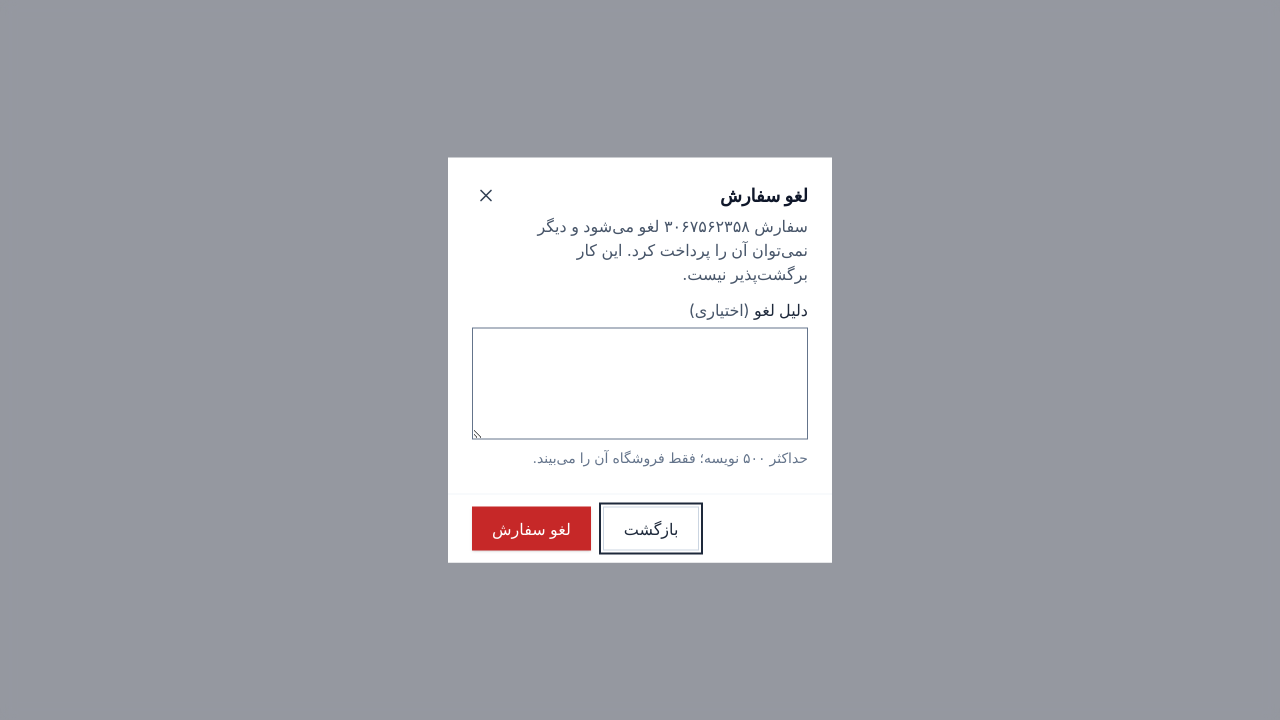
Scenario: refused › 404 not_found: said, the order read again, only «بازگشت» left
Click the button "لغو سفارش" at (531, 528), box [472,506,591,550]
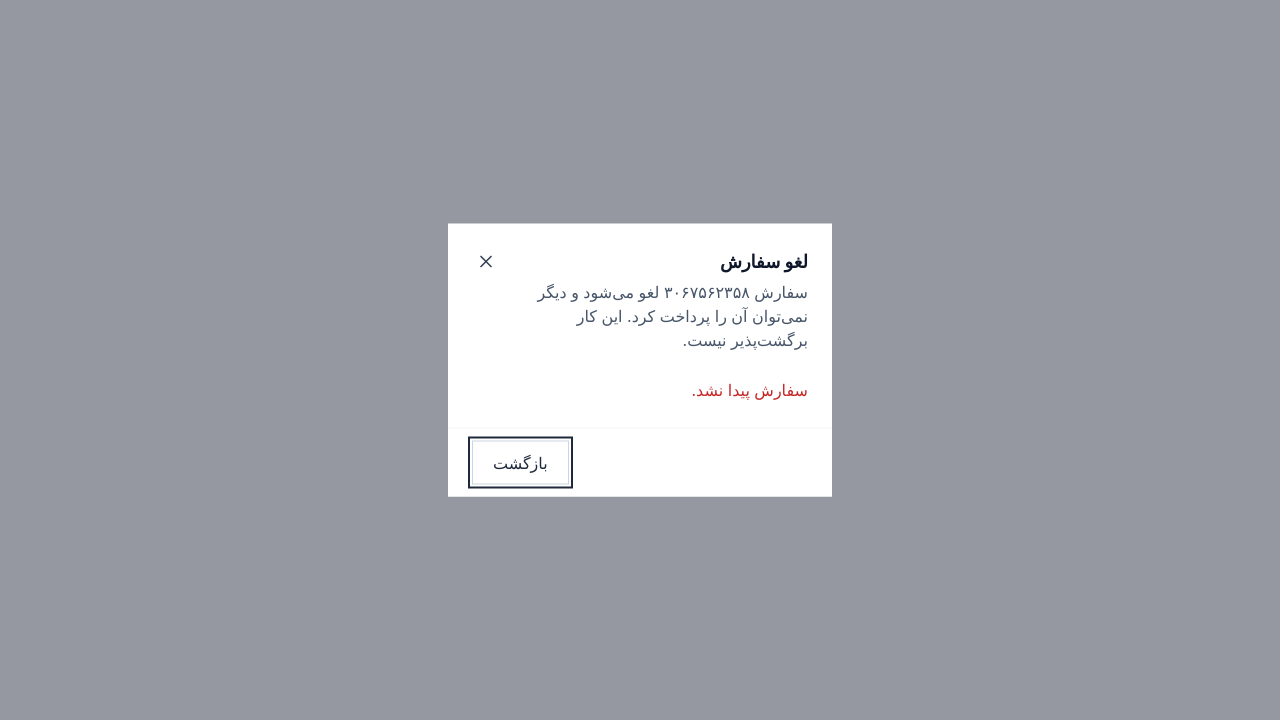
Expected: the message reads "سفارش پیدا نشد.", [692,380,808,400]
